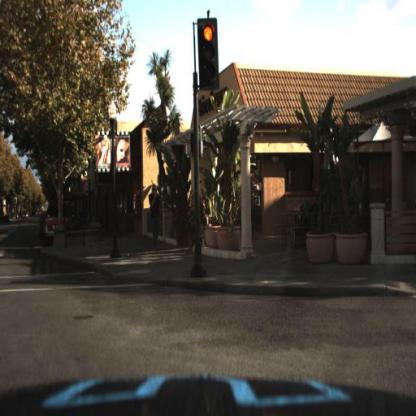pedestrian: (148, 173, 165, 253), (147, 180, 165, 248)
trafficLight-Red: (197, 17, 220, 96)
